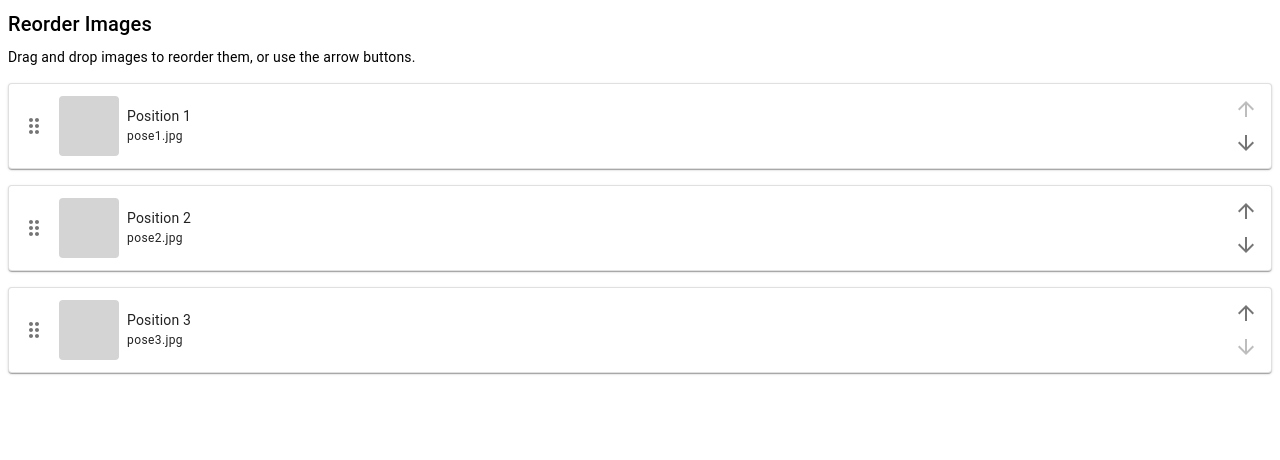
Scenario: ImageReorder › Button Navigation › should move image up when up arrow is clicked
This screenshot has width=1280, height=460.
# Click move up on second image (index 1) - should be enabled
What coordinates should you click on to do the following:
click the 2nd button named "Move up"
I would click on:
 (1246, 211)
Its box is [1229,194,1263,228].
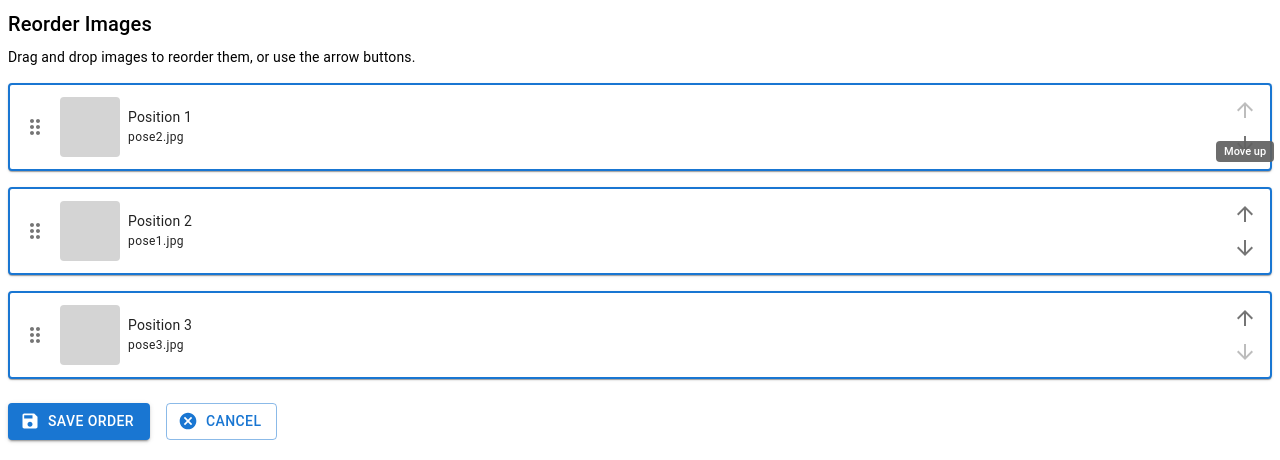
Result: the button "Save Order" is shown at [8,403,150,440]
Result: the button "Cancel" is shown at [166,403,277,440]
